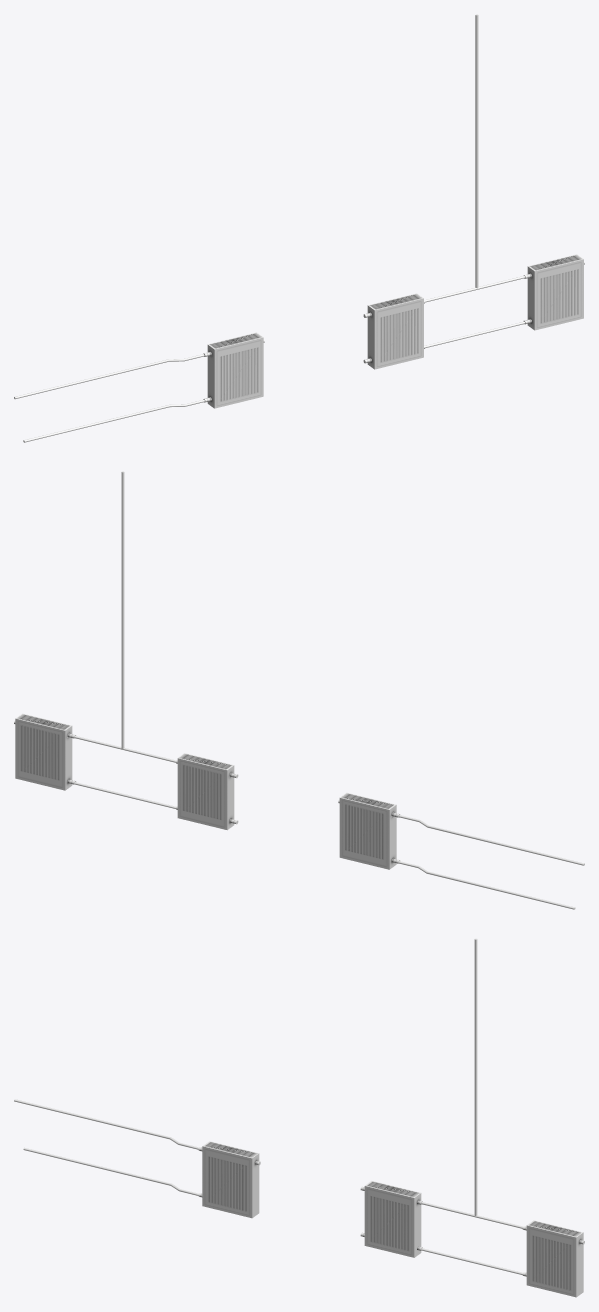
Rendered from Батареи.fbx.
The picture shows the model from 3 angles, top to bottom: view 1: azimuth 30°, elevation 25°; view 2: azimuth 150°, elevation 25°; view 3: azimuth 330°, elevation 25°; orthographic projection.
Visible parts, largest first — view 1: bat002, bat003, bat001, Трубы_От_Батареи, Труба_от_батареи; view 2: bat002, bat003, bat001, Трубы_От_Батареи, Труба_от_батареи; view 3: bat003, bat001, bat002, Трубы_От_Батареи, Труба_от_батареи.
Boxes of the visible parts, x1,y1,x2,y2 form: bat002: [363, 293, 424, 369]; bat003: [203, 332, 264, 408]; bat001: [523, 254, 584, 330]; Трубы_От_Батареи: [14, 276, 524, 442]; Труба_от_батареи: [475, 14, 478, 288]; bat002: [176, 753, 238, 830]; bat003: [338, 792, 400, 869]; bat001: [14, 713, 76, 790]; Трубы_От_Батареи: [74, 736, 584, 909]; Труба_от_батареи: [121, 471, 124, 748]; bat003: [198, 1141, 260, 1218]; bat001: [522, 1220, 584, 1297]; bat002: [360, 1181, 422, 1257]; Трубы_От_Батареи: [14, 1099, 522, 1274]; Труба_от_батареи: [474, 938, 477, 1215].
Bounding box in the file's own units: 550 × 303 × 13.26.
2 materials, 1 textured.
